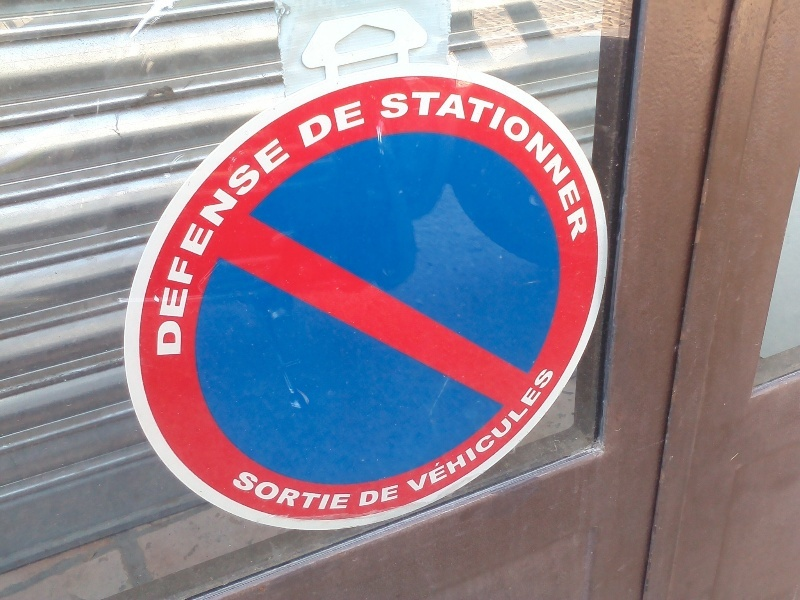text: (193, 100, 208, 362), (209, 100, 224, 362), (225, 100, 240, 362), (241, 100, 256, 362), (257, 100, 272, 362), (273, 100, 288, 362), (385, 88, 400, 258), (401, 88, 416, 258), (417, 88, 432, 258), (433, 88, 448, 258), (449, 88, 464, 258), (465, 88, 480, 258), (481, 88, 496, 258), (497, 88, 512, 258), (513, 88, 528, 258), (529, 88, 544, 258), (545, 88, 560, 258), (561, 88, 576, 258), (577, 88, 592, 258), (417, 364, 432, 505), (433, 364, 448, 505), (449, 364, 464, 505), (465, 364, 480, 505), (481, 364, 496, 505), (497, 364, 512, 505), (513, 364, 528, 505), (529, 364, 544, 505), (545, 364, 560, 505), (402, 364, 416, 505), (289, 100, 296, 362), (561, 364, 573, 505), (593, 88, 601, 258), (305, 95, 320, 154), (321, 95, 336, 154), (337, 95, 352, 154), (353, 95, 368, 154), (379, 88, 384, 258), (241, 469, 256, 519), (257, 469, 272, 519), (273, 469, 288, 519), (289, 469, 304, 519), (305, 469, 320, 519), (321, 469, 336, 519), (337, 469, 352, 519), (385, 484, 401, 508), (369, 484, 384, 508), (298, 95, 304, 154), (353, 469, 360, 519), (236, 469, 240, 519), (360, 484, 368, 508), (369, 95, 372, 154)
